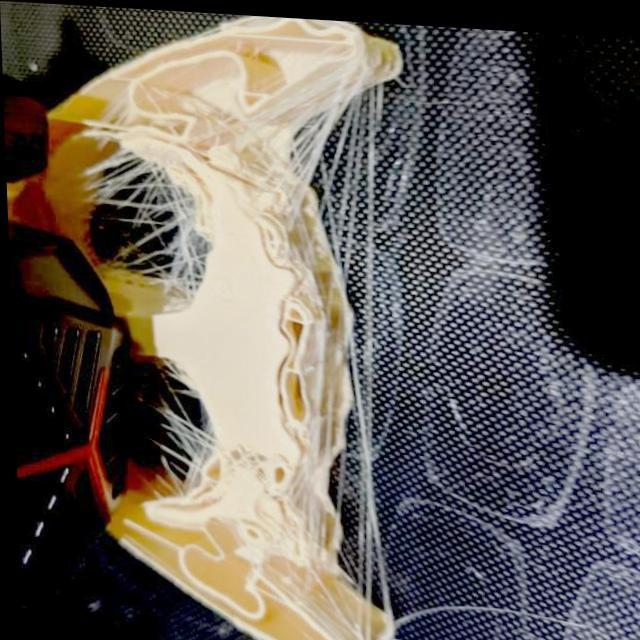stringing: (120, 185, 201, 270), (134, 404, 206, 476), (90, 156, 148, 206), (278, 114, 324, 176)
